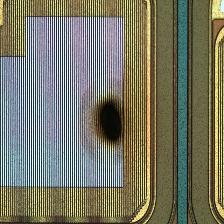PARTICLE: (73, 85, 149, 161)
